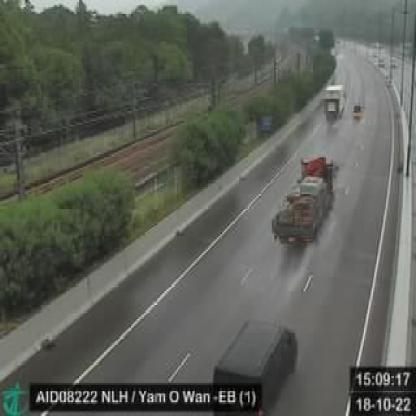Car: (208, 315, 298, 411), (352, 101, 364, 120)
Truck: (270, 158, 338, 250), (322, 84, 346, 122)
